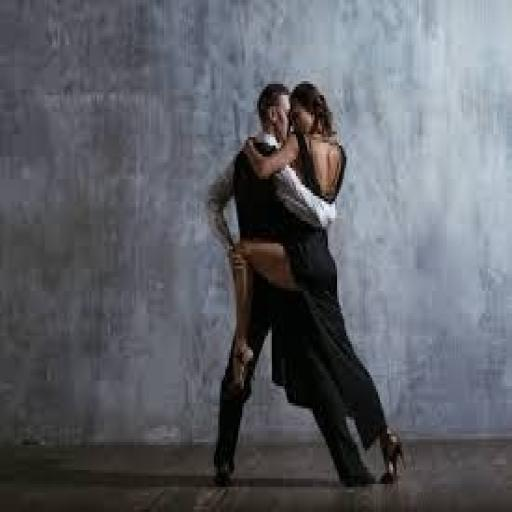dancing: (206, 78, 408, 492)
